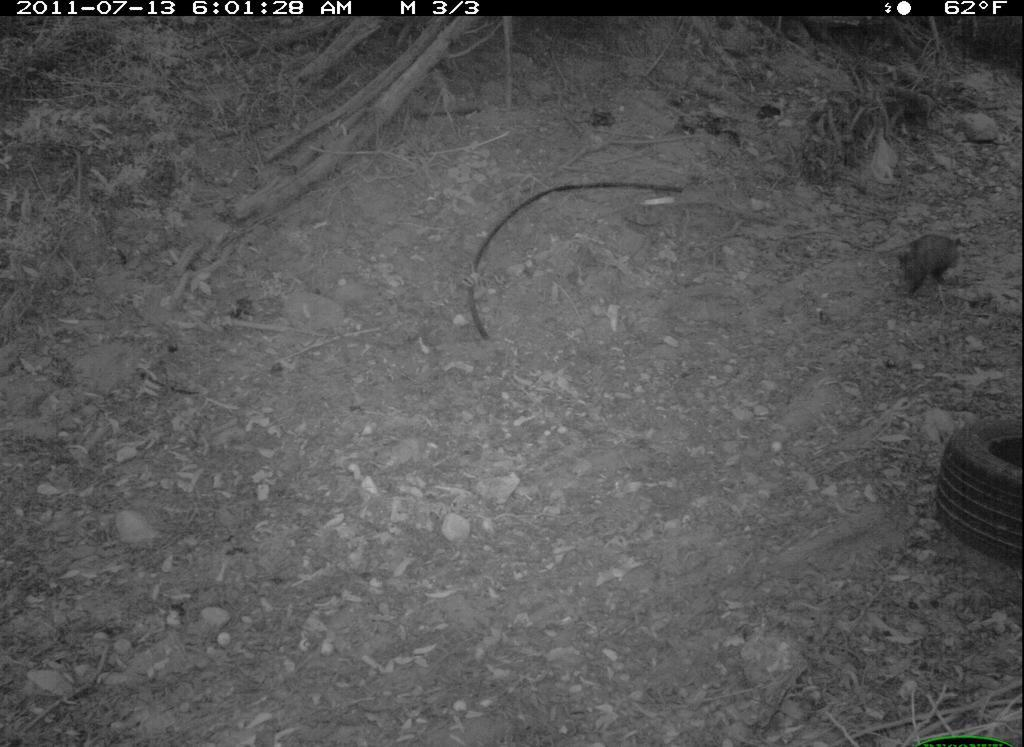opossum: (894, 228, 966, 301)
